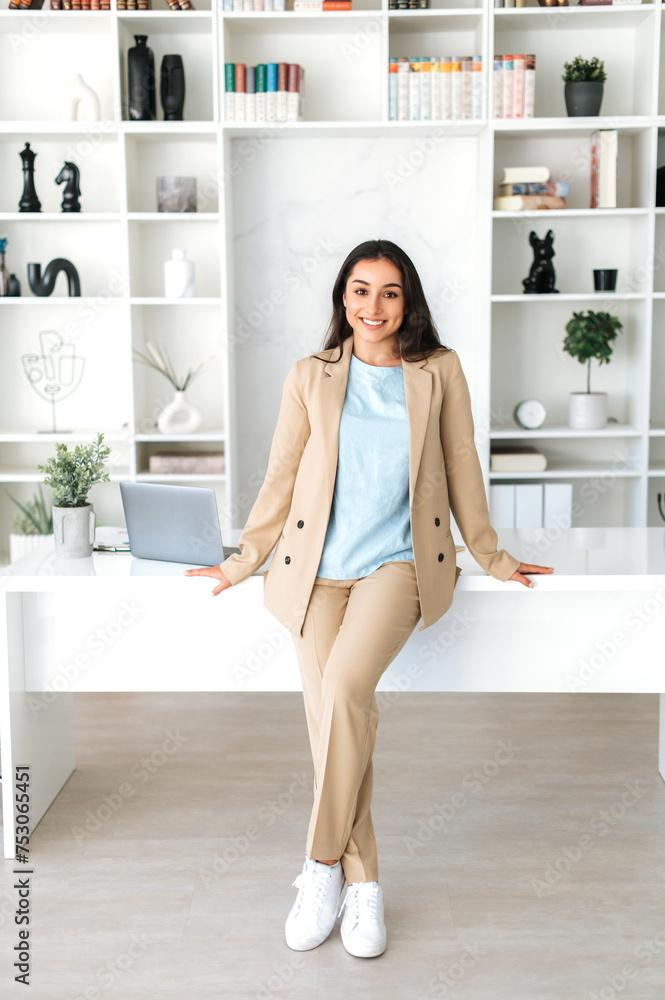Human: (228, 184, 512, 972)
